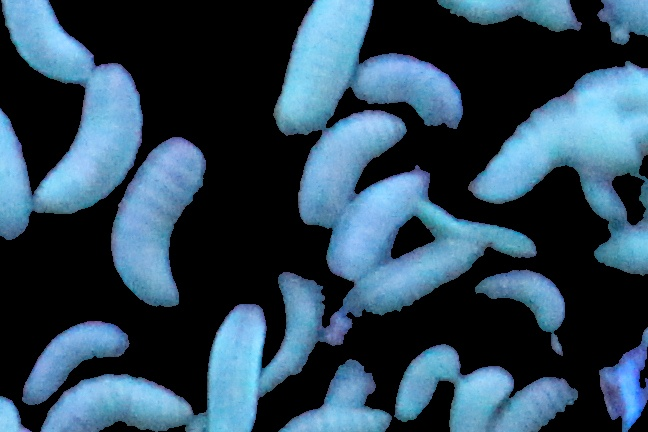larvae: (27, 56, 146, 244), (112, 125, 212, 330), (261, 1, 384, 146), (294, 99, 410, 236), (478, 69, 577, 209), (321, 168, 437, 277), (353, 43, 473, 140), (5, 315, 129, 392), (40, 370, 190, 432), (200, 294, 262, 432), (1, 1, 92, 86), (350, 253, 475, 312), (475, 262, 572, 334), (384, 338, 461, 427), (273, 261, 324, 384), (1, 106, 35, 250), (505, 371, 577, 432), (451, 367, 506, 432), (281, 402, 390, 432)
